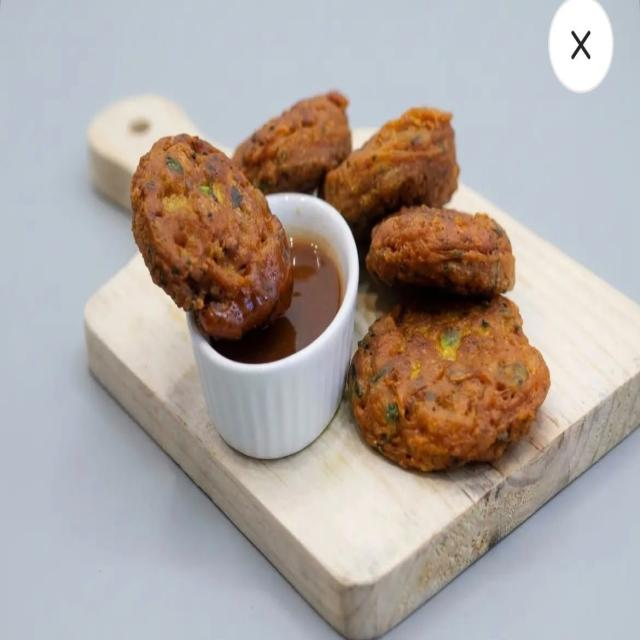Kebab: (340, 94, 554, 479), (131, 117, 297, 339), (230, 78, 355, 192)
